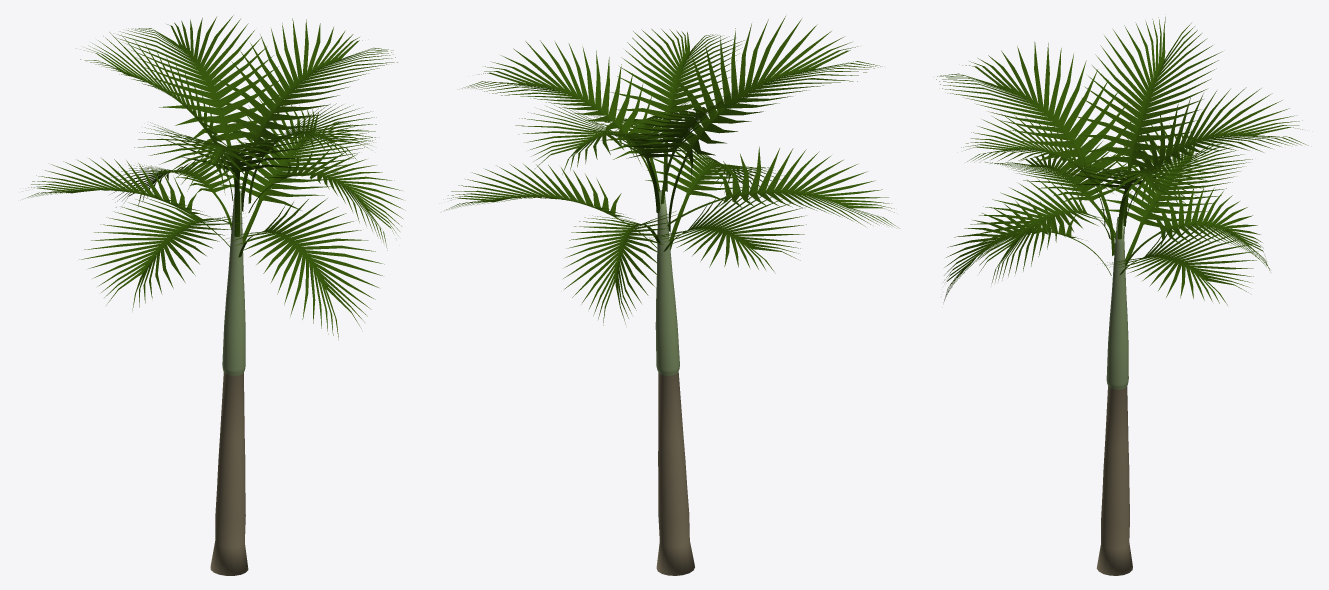
The model's file is PalmTree.fbx.
3 views of the same model, side by side, from view 1: azimuth 30°, elevation 25°; view 2: azimuth 150°, elevation 25°; view 3: azimuth 270°, elevation 25° (orthographic). The views are drawn at different scales.
Parts seen in each view (by area): view 1: C-palm; view 2: C-palm; view 3: C-palm.
Boxes of the visible parts, x1,y1,x2,y2 form: C-palm: [25, 15, 405, 575]; C-palm: [444, 16, 899, 575]; C-palm: [936, 17, 1308, 575].
Bounding box in the file's own units: 4.71 × 6.49 × 4.54.
